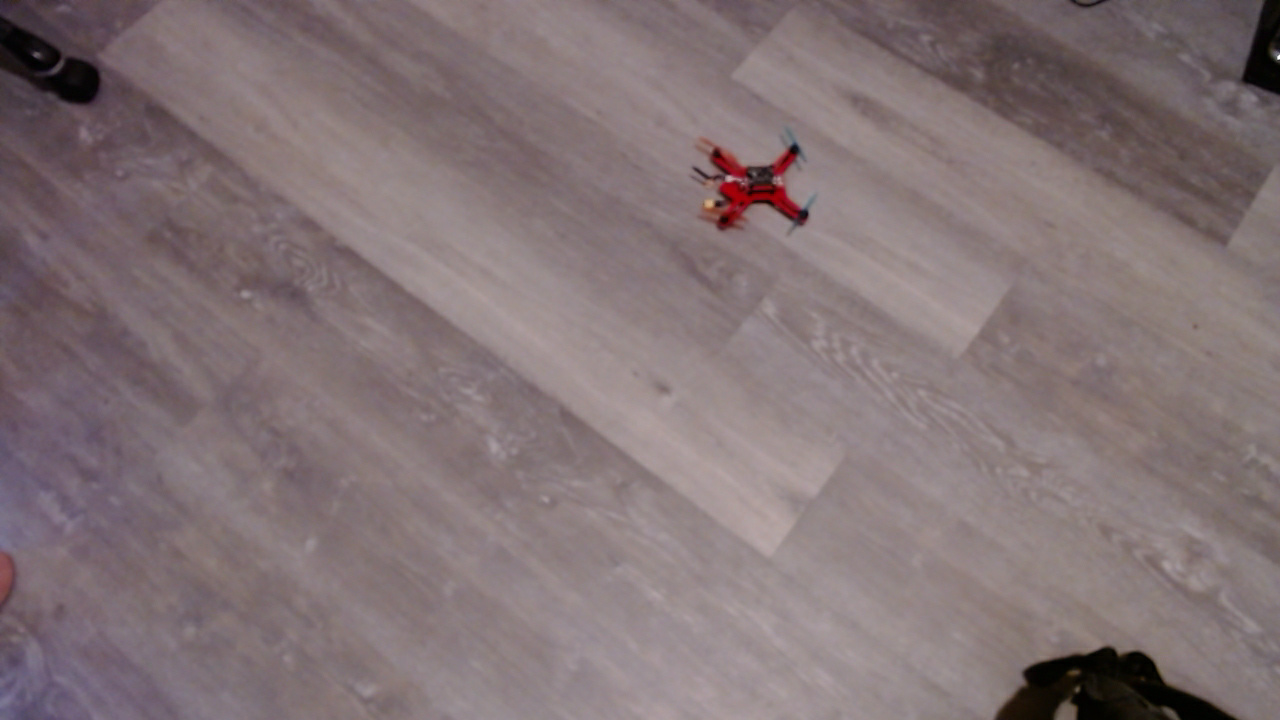crazyflie: (684, 130, 830, 245)
